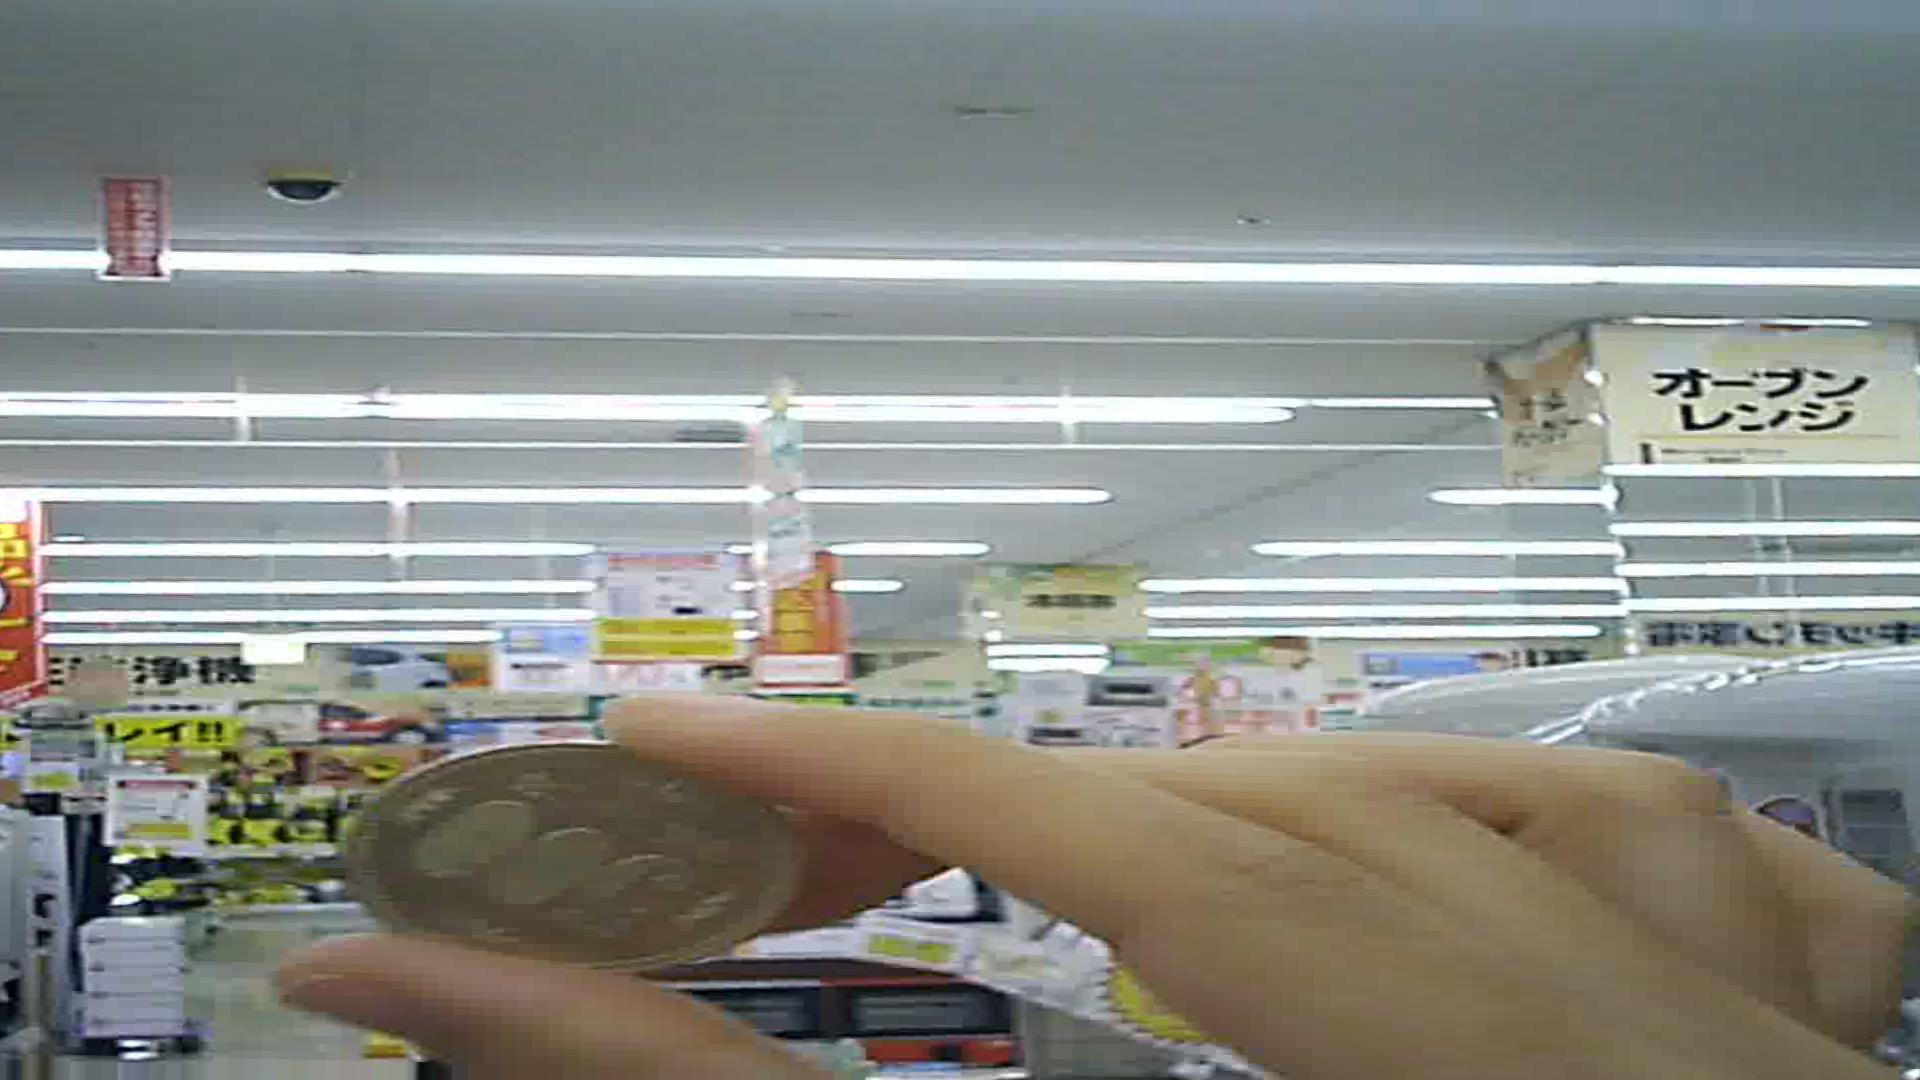500 Yen: (335, 742, 837, 984)
